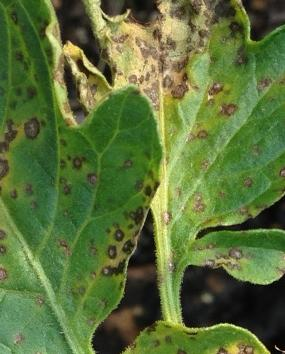Tomato Septoria leaf spot: (0, 0, 278, 354), (28, 0, 285, 294)
